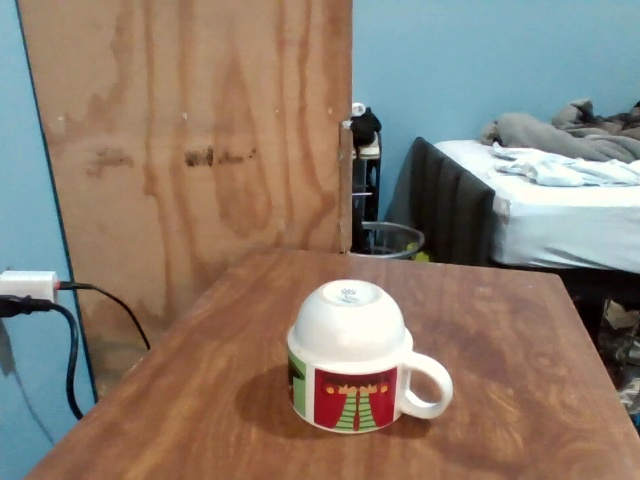taza: (285, 279, 454, 433)
